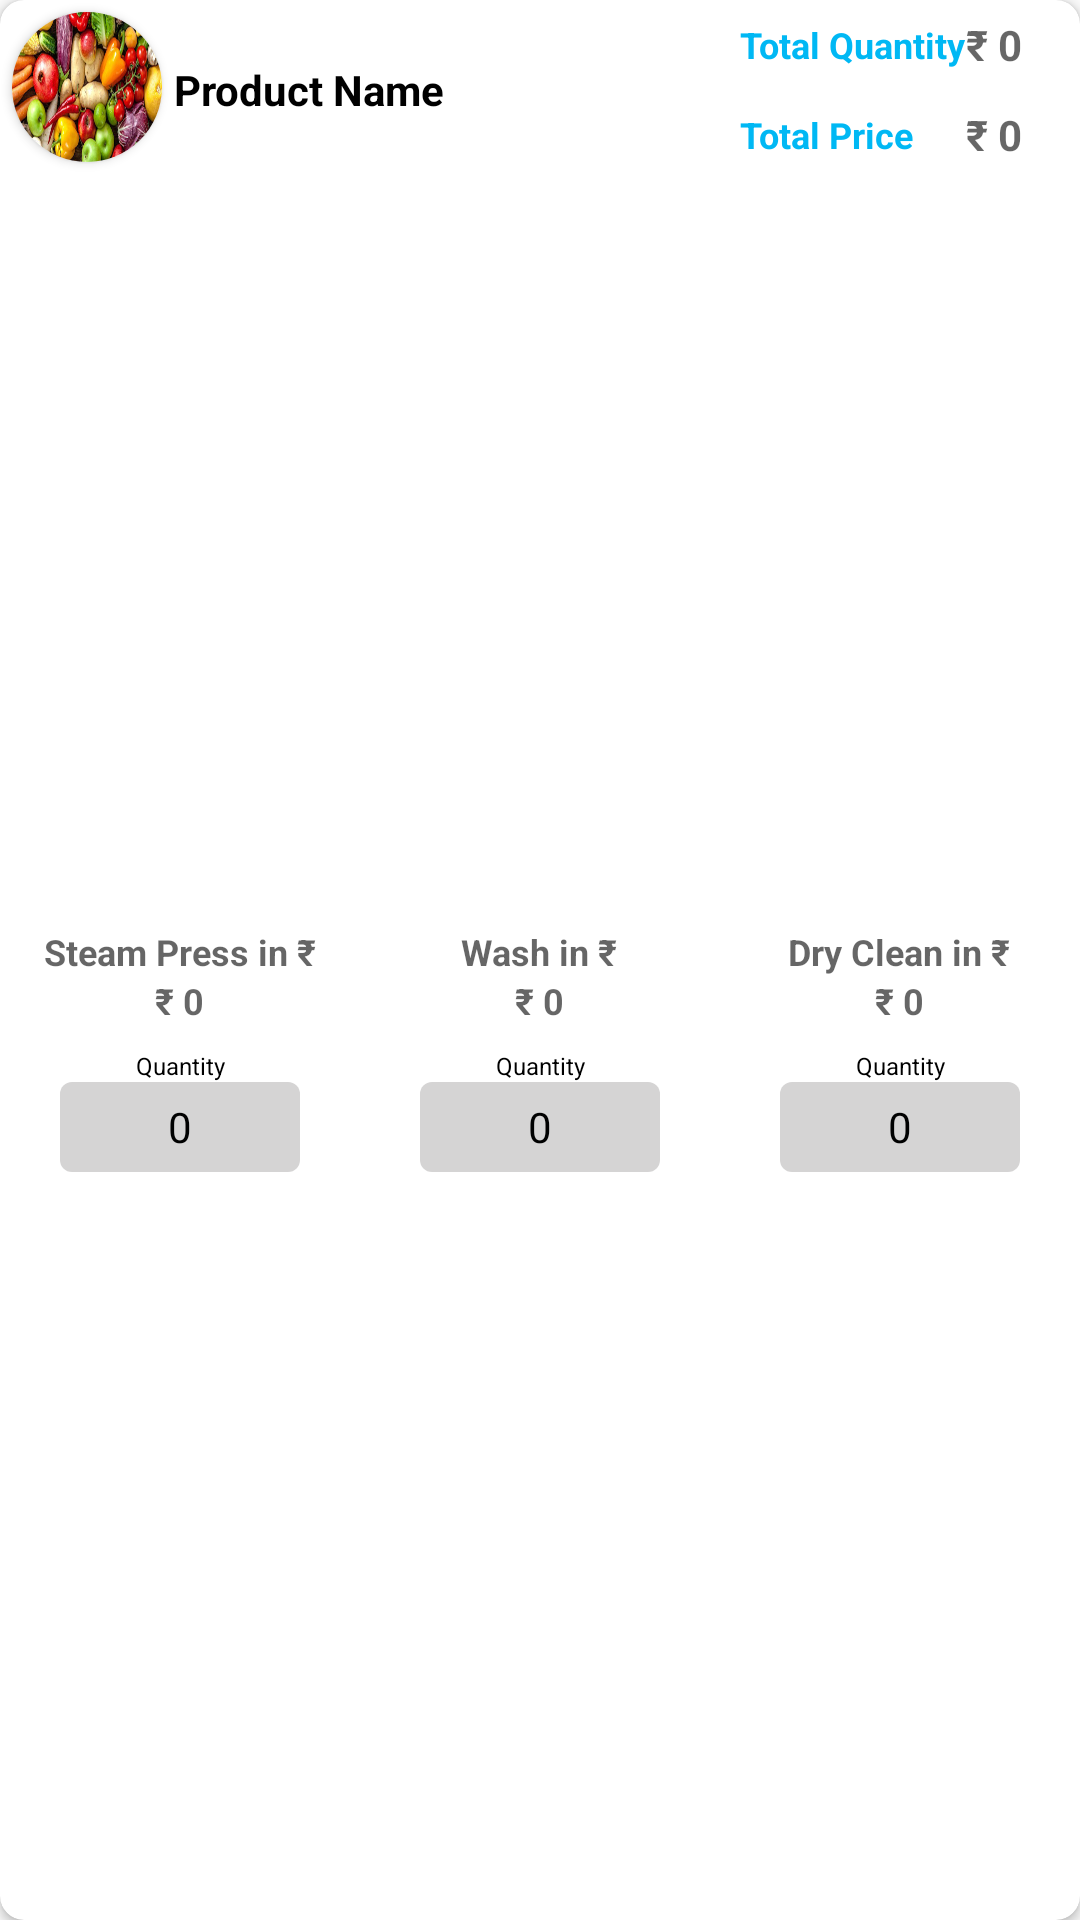

Screen size 1080px×1920px. Icon name, then its center in pixels as (x=x, y=y):
cat fresh: (x=87, y=87)
